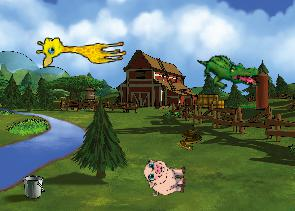crocodile: (197, 50, 260, 93)
giraffe: (35, 30, 127, 68)
pig: (144, 158, 186, 196)
